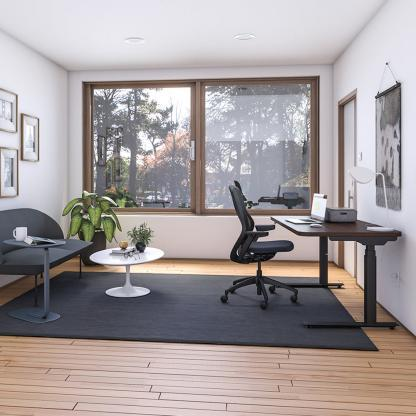chair: (220, 174, 306, 319)
light: (350, 162, 401, 234)
sofa: (0, 209, 89, 307)
table: (268, 211, 407, 339), (6, 238, 63, 329), (89, 245, 164, 303)
